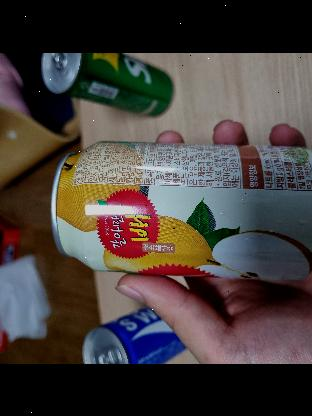Can: (44, 131, 312, 289)
